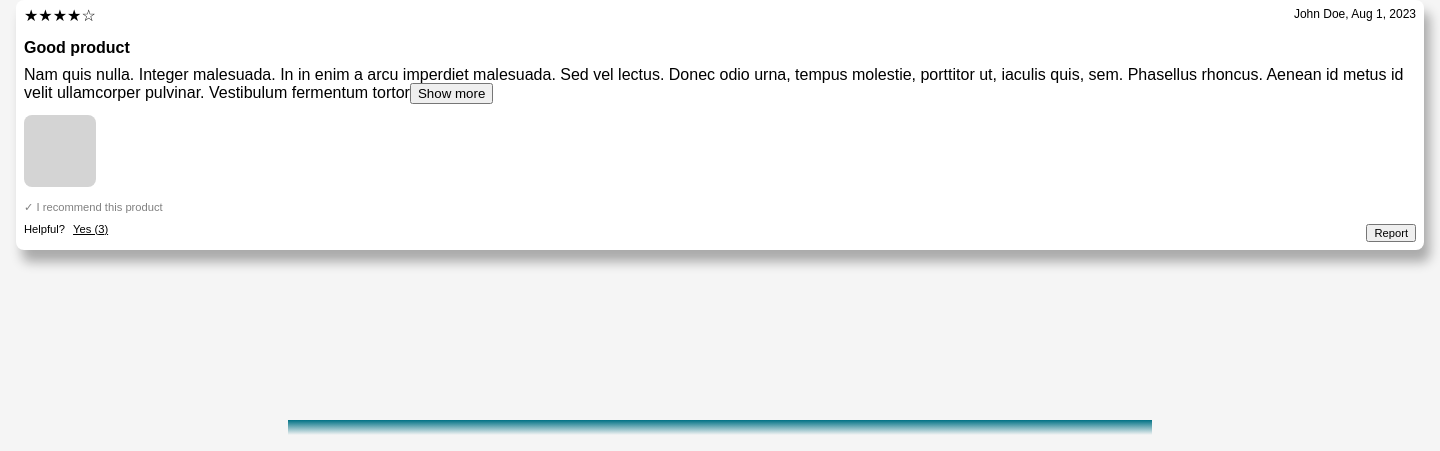
Test case: ReviewTile › changes show more button to show less upon click
The width and height of the screenshot is (1440, 451).
Click the button "Show more" at (452, 94), box x1=410 y1=83 x2=493 y2=104
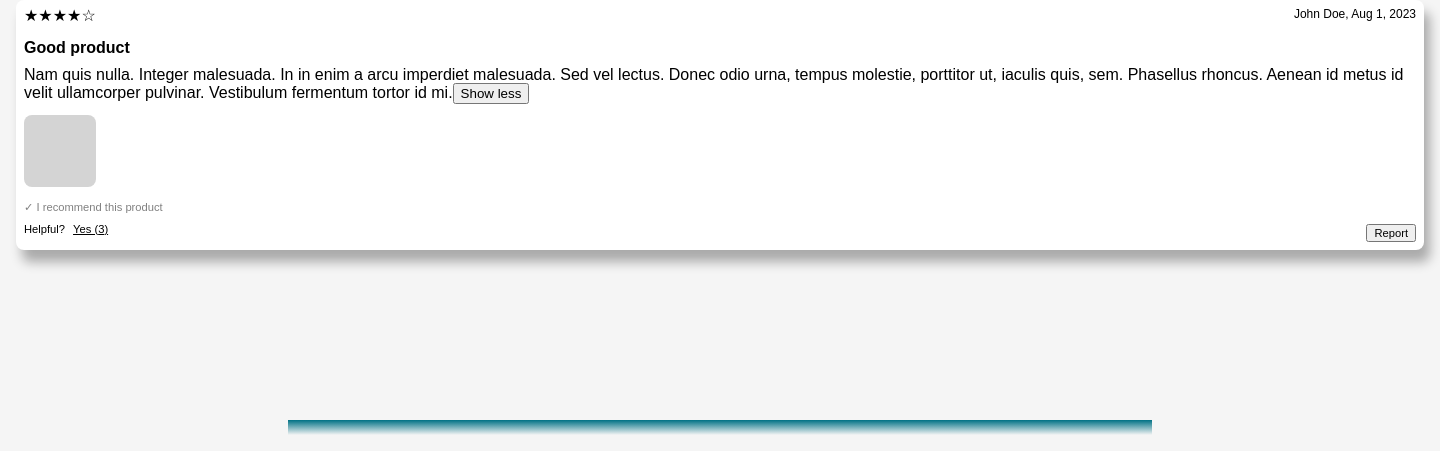
Expected: the button "Show less" is shown, x1=453 y1=83 x2=529 y2=104
